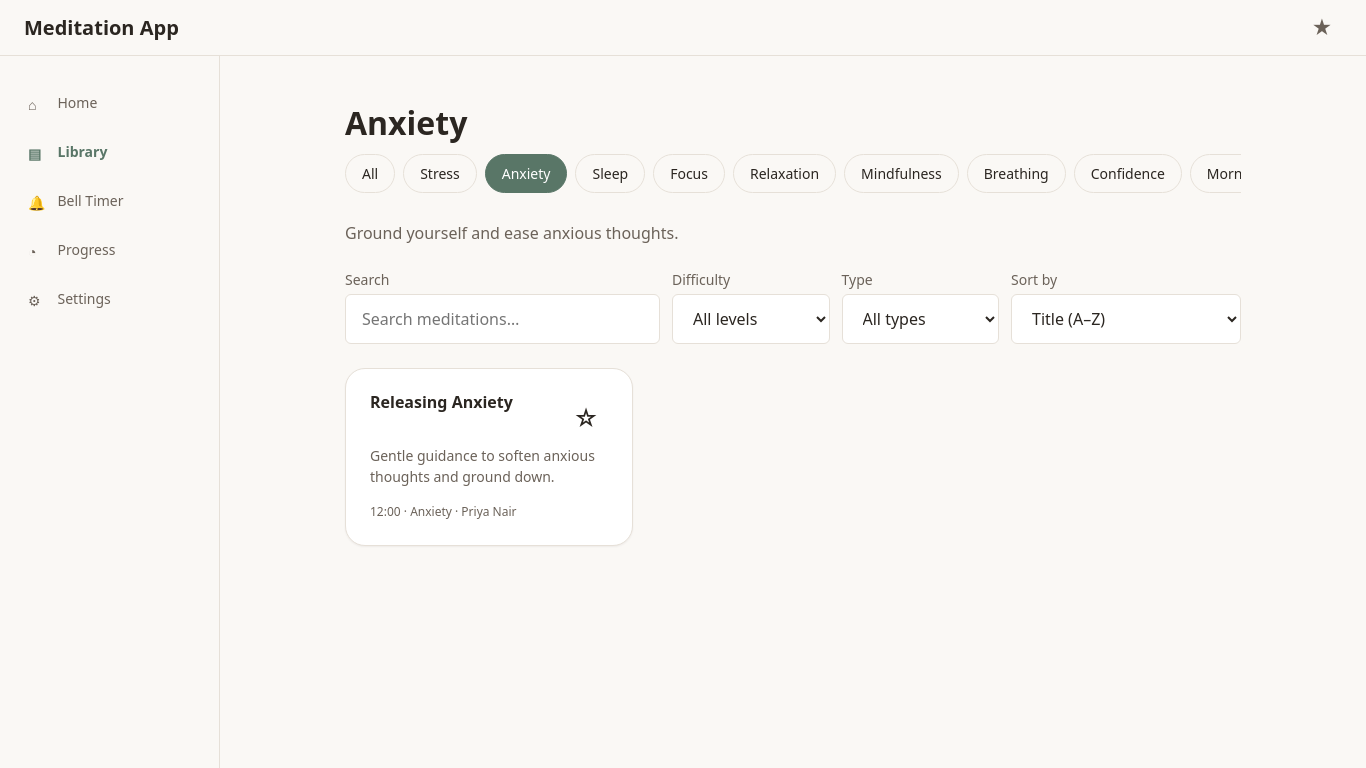
App shell routing › navigates to Favorites via the header link
The width and height of the screenshot is (1366, 768).
Click the link named "Favorites": click(1322, 27) [1312,14,1332,40]
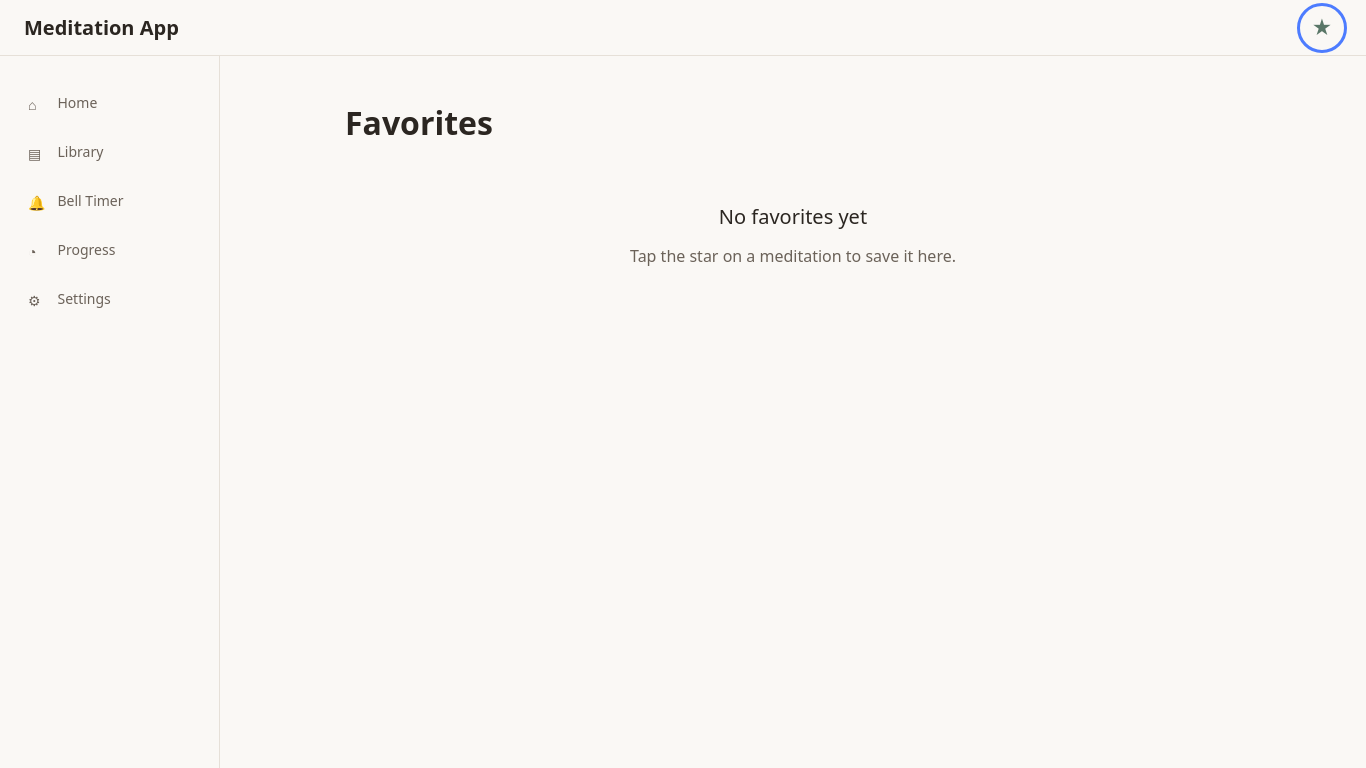
Check: the heading "Favorites" is shown, box [345,101,493,144]
